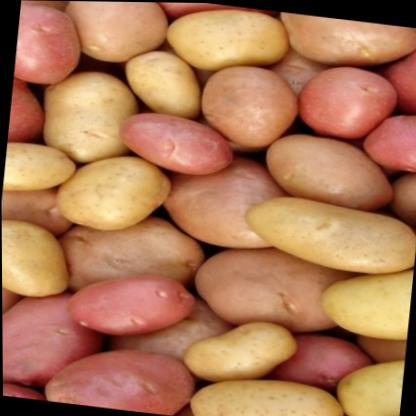--: (228, 191, 416, 275), (52, 142, 170, 243), (33, 57, 131, 168), (176, 356, 348, 416), (174, 309, 295, 393), (157, 2, 290, 76), (1, 218, 75, 306), (115, 46, 203, 115)
